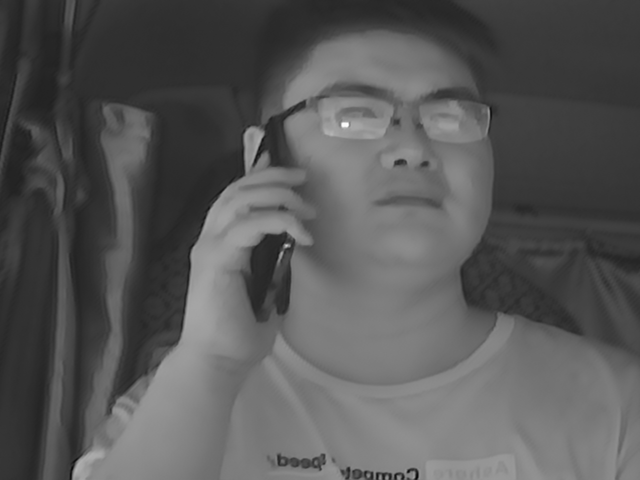hand: (177, 157, 313, 353)
